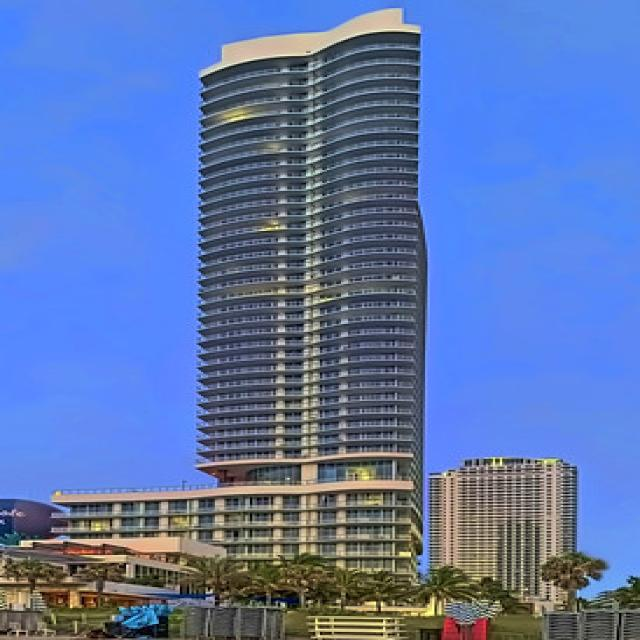building: (185, 5, 428, 582), (433, 452, 583, 610)
